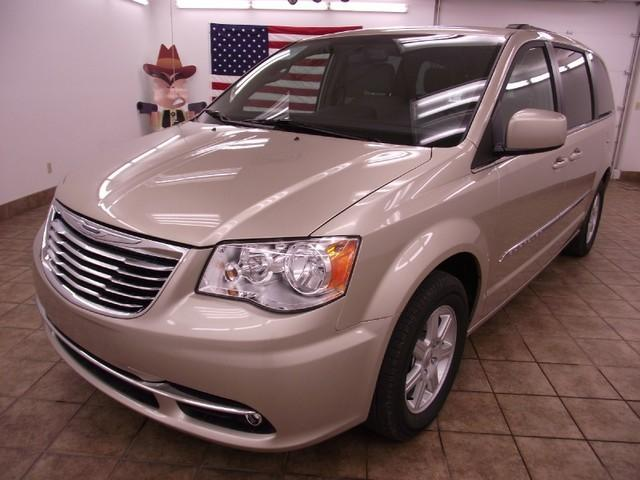Chrysler: (56, 206, 147, 249)
